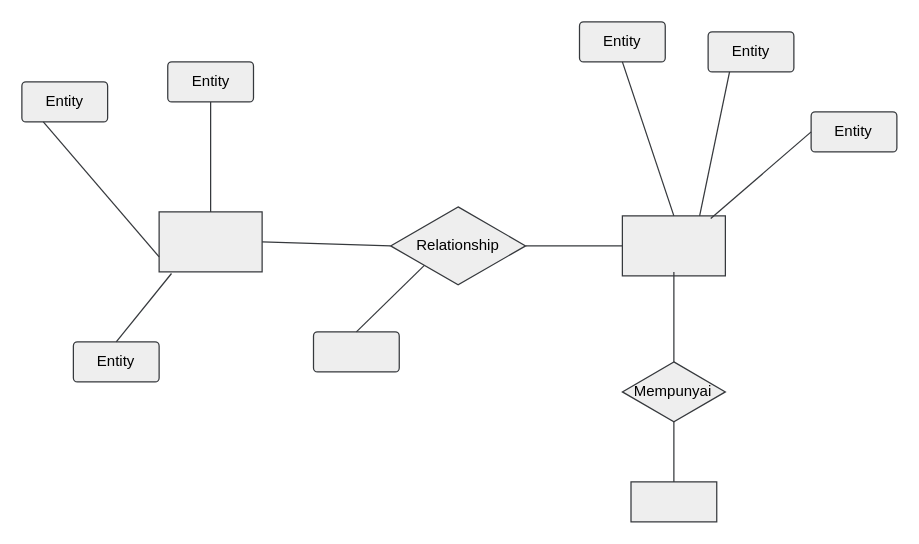
Some shapes in this 919 by 544 pixel diagram are drawn without their labels. Here are the shapes that lost their labels. From the top down, the centre of each, then its label:
point (210, 241): Member
point (673, 245): Jasa Foto
point (355, 351): Tanggal Pemesanan
point (673, 501): Pemilik
